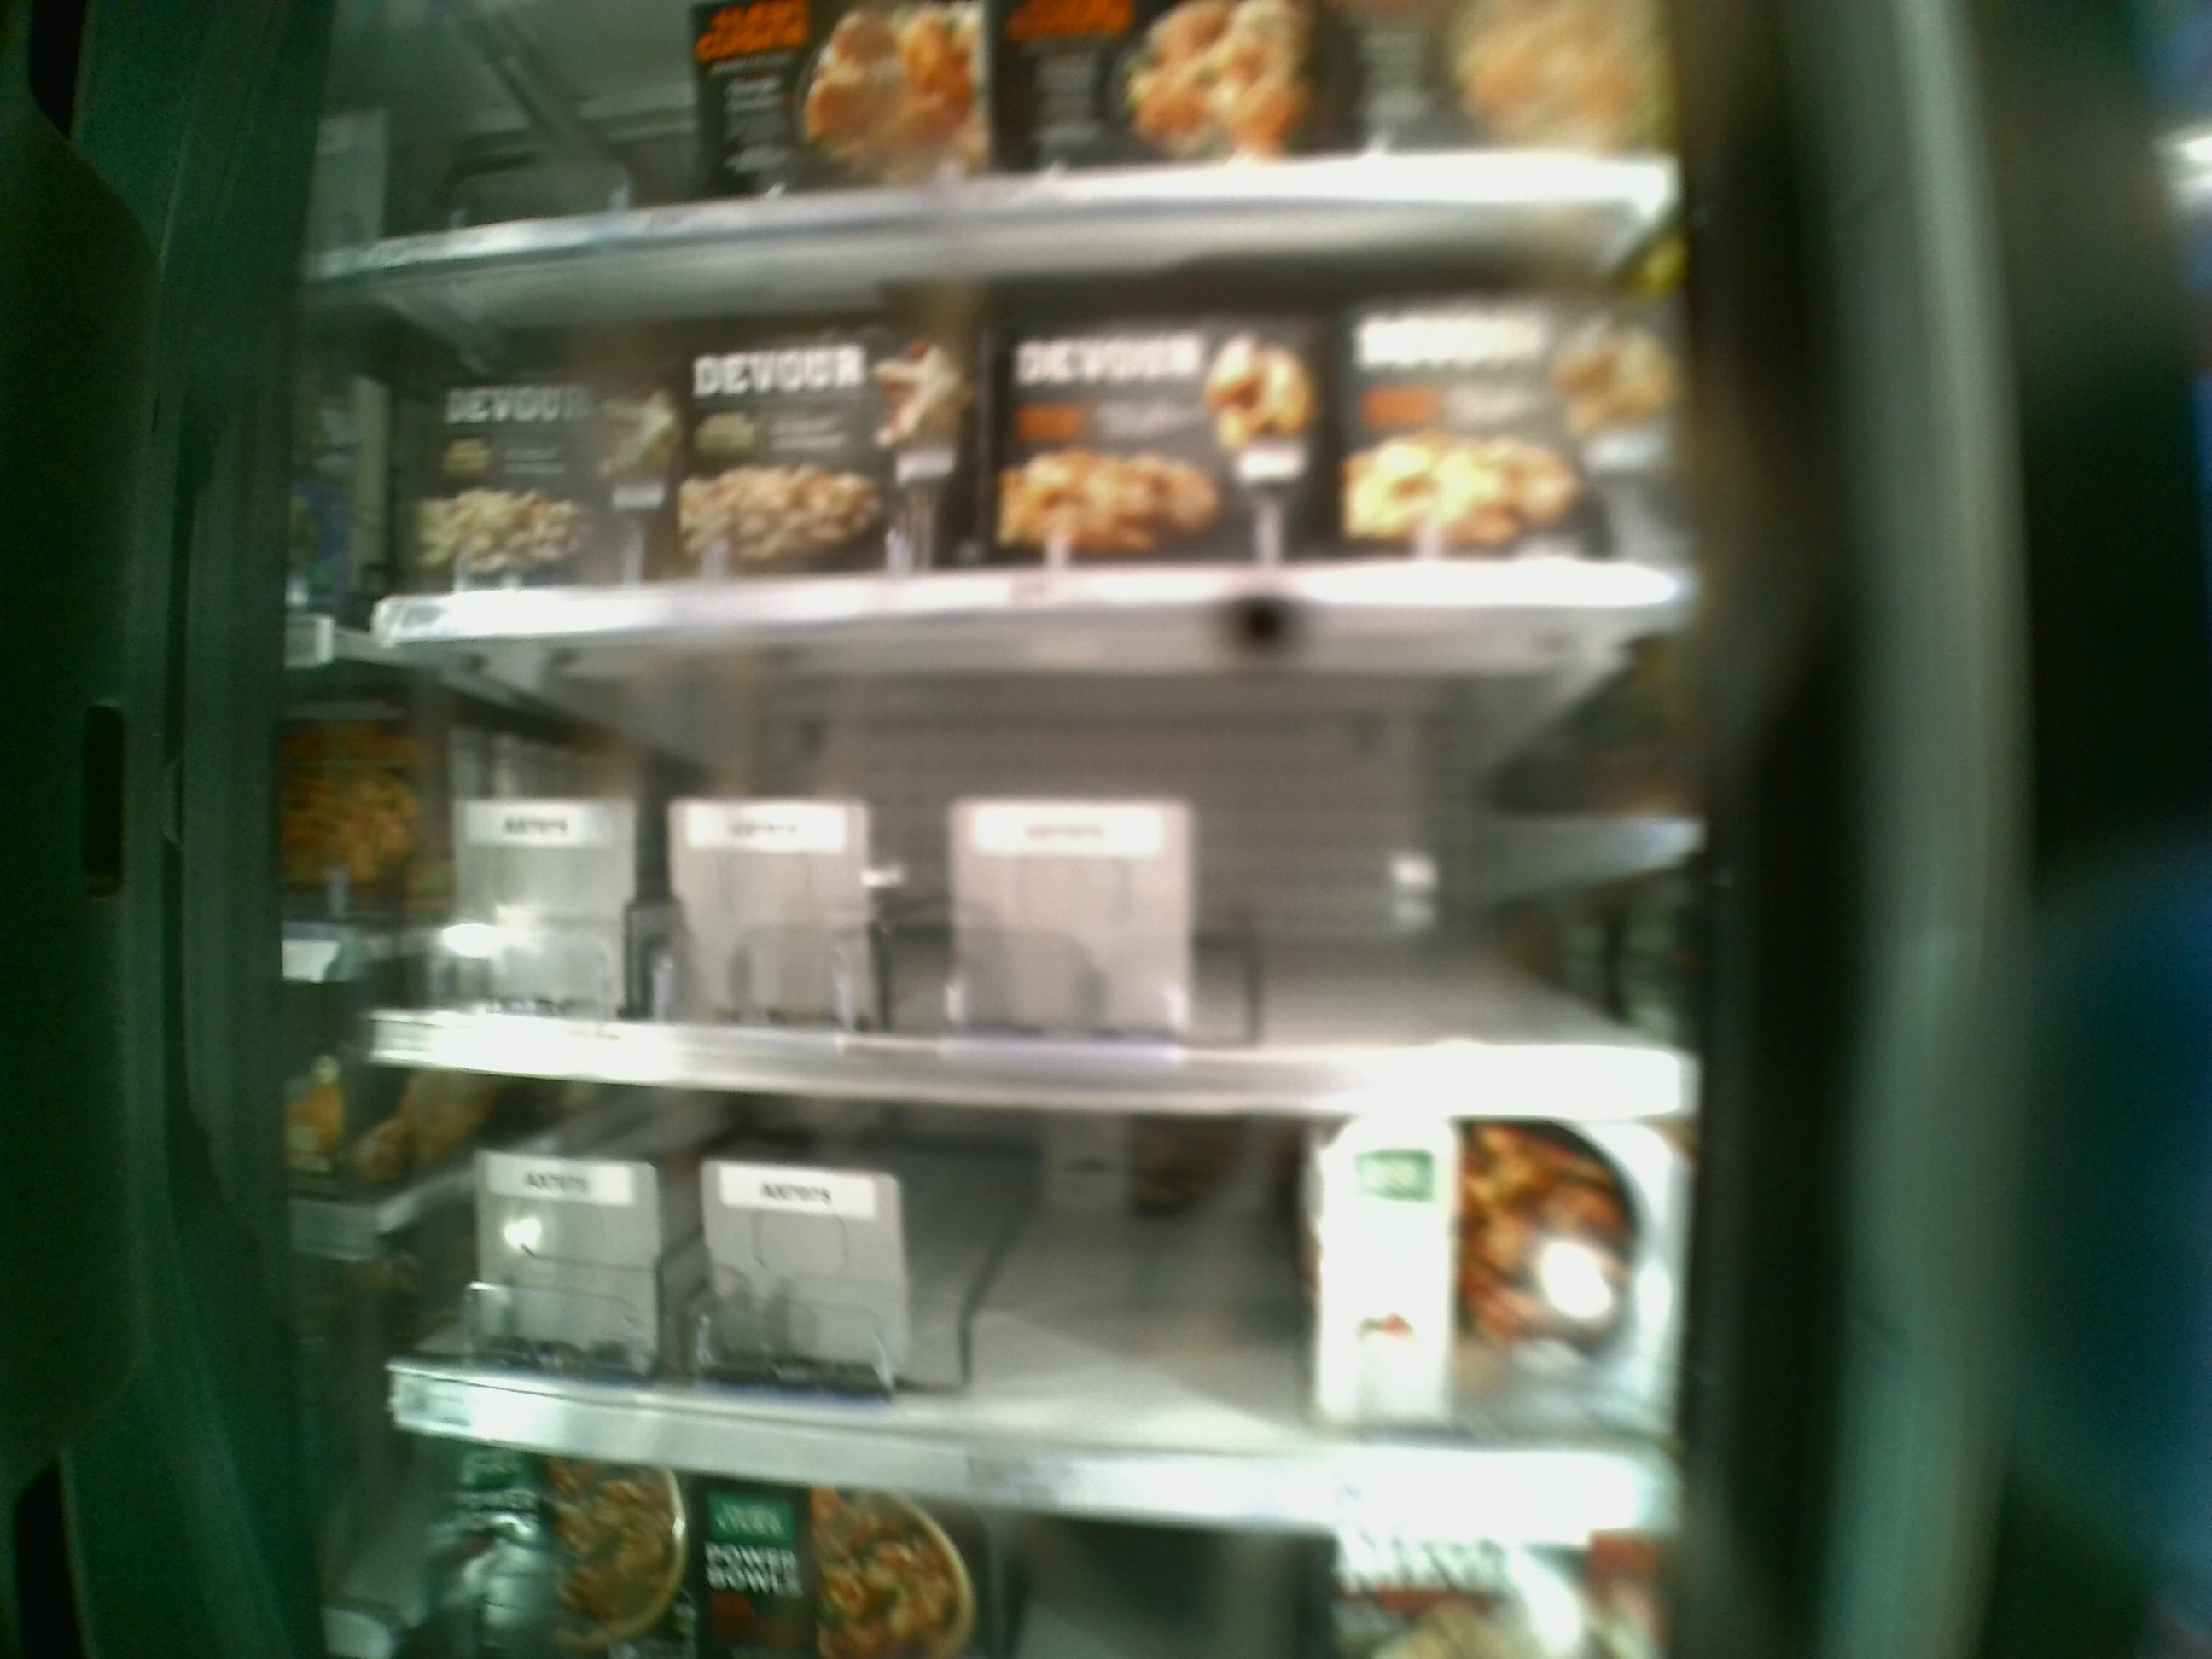Shelf: (374, 608, 1689, 1119), (343, 209, 1689, 636)
